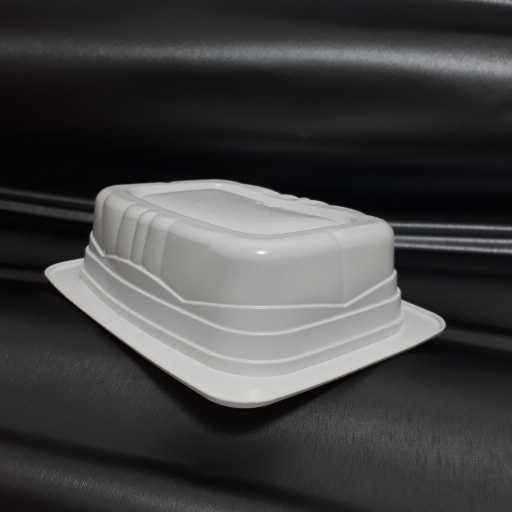Plastic_4: (39, 177, 446, 417)
